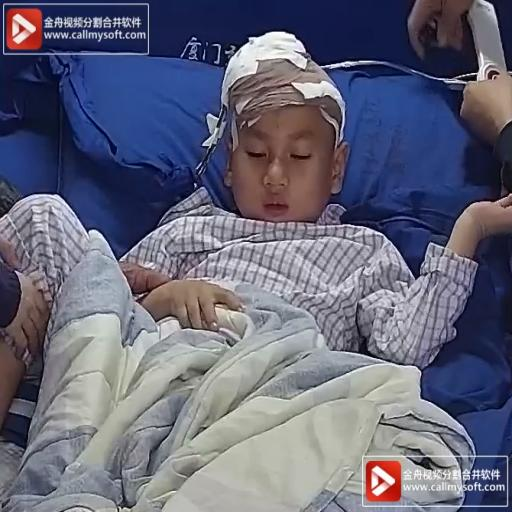Seizure: (212, 34, 353, 228)
